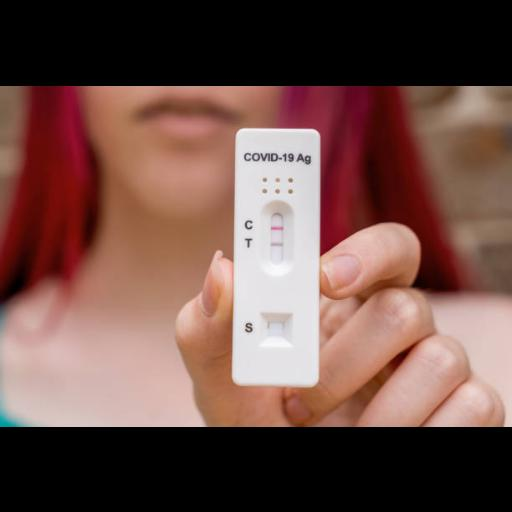Pos: (236, 128, 318, 384)
